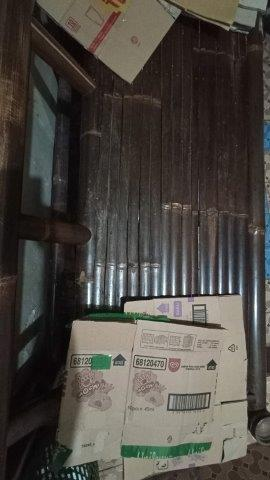kardus: (58, 297, 246, 480), (35, 1, 183, 81)
